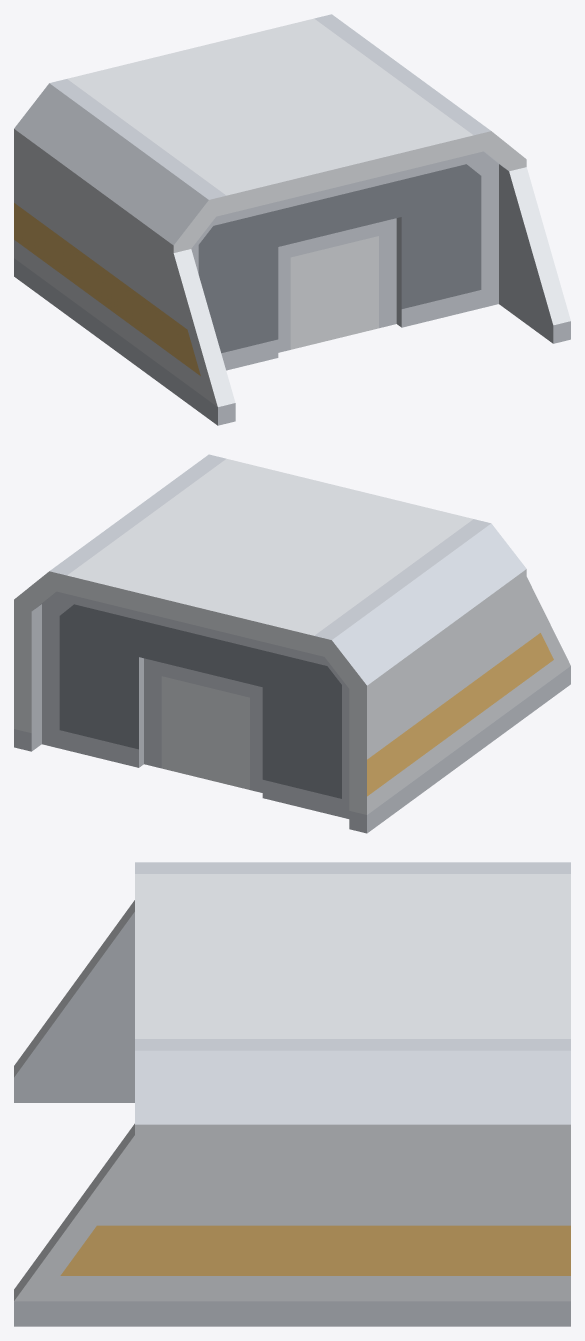
3 renders of one model, top to bottom at view 1: azimuth 30°, elevation 25°; view 2: azimuth 150°, elevation 25°; view 3: azimuth 270°, elevation 25°, orthographic. The views are drawn at different scales.
Visible parts, largest first — view 1: hangar_smallB, gate; view 2: hangar_smallB, gate; view 3: hangar_smallB.
Part boxes in pixels (left/top/right/bottom): hangar_smallB: left=14, top=14, right=570, bottom=425; gate: left=191, top=151, right=498, bottom=370; hangar_smallB: left=14, top=454, right=570, bottom=833; gate: left=42, top=591, right=349, bottom=818; hangar_smallB: left=14, top=862, right=570, bottom=1326.
Size of the model in its own units: 2 by 1 by 2.
